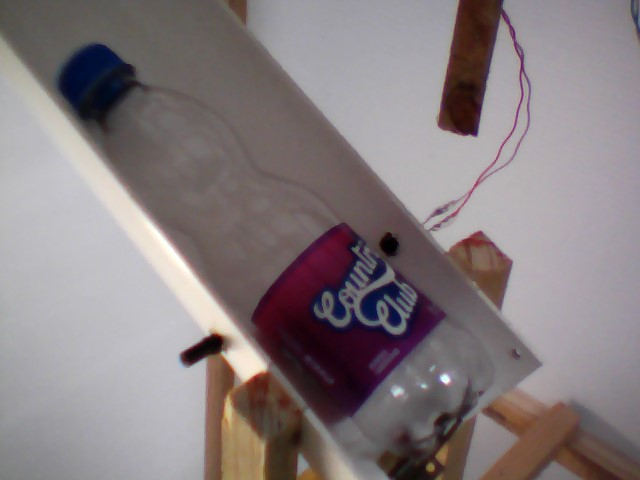plastico: (46, 37, 509, 480)
